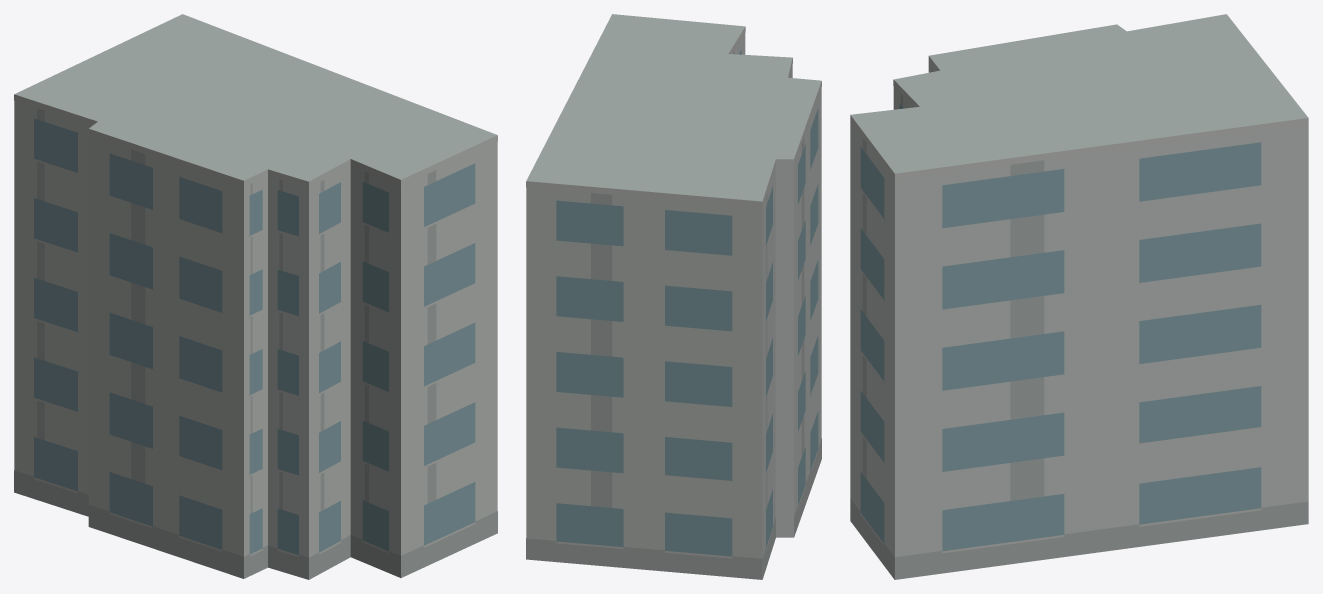
Rendered from survey-upis-32881680.glb.
3 views of the same model, side by side, from view 1: azimuth 30°, elevation 25°; view 2: azimuth 150°, elevation 25°; view 3: azimuth 270°, elevation 25° (orthographic). The views are drawn at different scales.
Parts seen in each view (by area): view 1: survey-upis-32881680.tmp; view 2: survey-upis-32881680.tmp; view 3: survey-upis-32881680.tmp.
Part boxes in pixels (x1,y1,x2,y2): survey-upis-32881680.tmp: (14, 14, 497, 579); survey-upis-32881680.tmp: (526, 14, 821, 579); survey-upis-32881680.tmp: (850, 14, 1308, 579).
Size of the model in its own units: 12.66 by 15 by 15.35.
